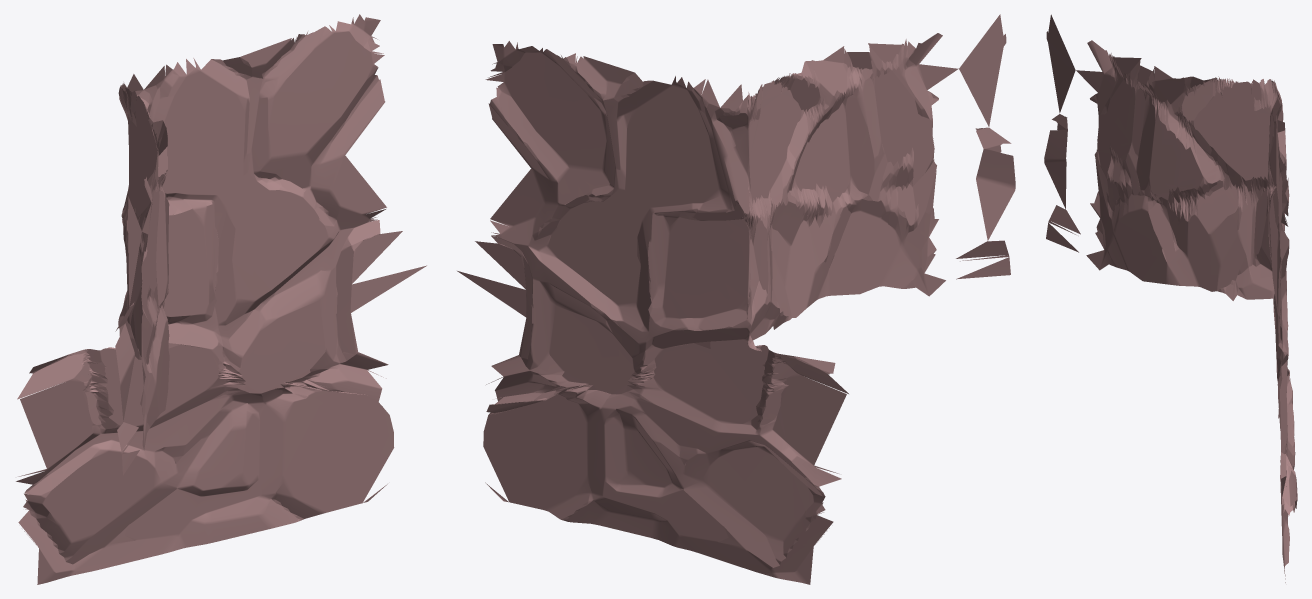
Rendered from cliff_area_2.fbx_Cliff_Area_2_023LODs.fbx.
3 views of the same model, side by side, from view 1: azimuth 30°, elevation 25°; view 2: azimuth 150°, elevation 25°; view 3: azimuth 270°, elevation 25° (orthographic). The views are drawn at different scales.
Visible parts, largest first — view 1: Cliff Area 2.023_LOD0; view 2: Cliff Area 2.023_LOD0; view 3: Cliff Area 2.023_LOD0.
Part boxes in pixels (x1=…): Cliff Area 2.023_LOD0: x1=16, y1=14, x2=426, y2=584; Cliff Area 2.023_LOD0: x1=457, y1=14, x2=1015, y2=584; Cliff Area 2.023_LOD0: x1=1044, y1=14, x2=1297, y2=582.
Size of what is drawn, in the model's own units: 3600 by 3893 by 2122.
